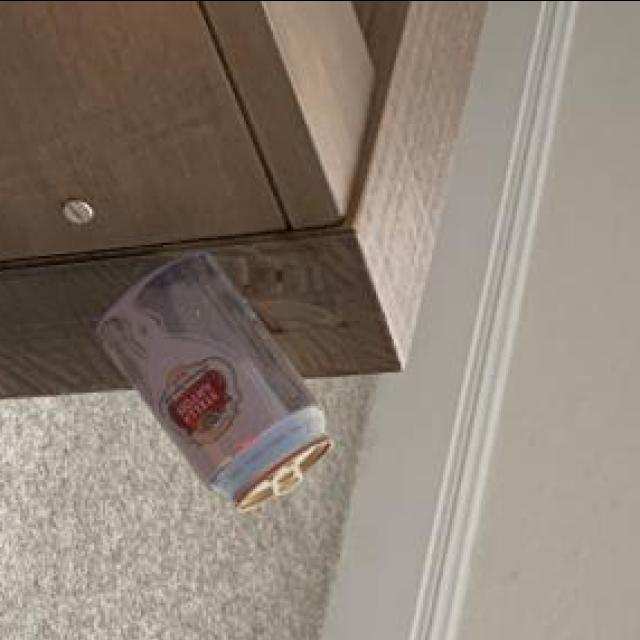logam: (100, 247, 337, 507)
